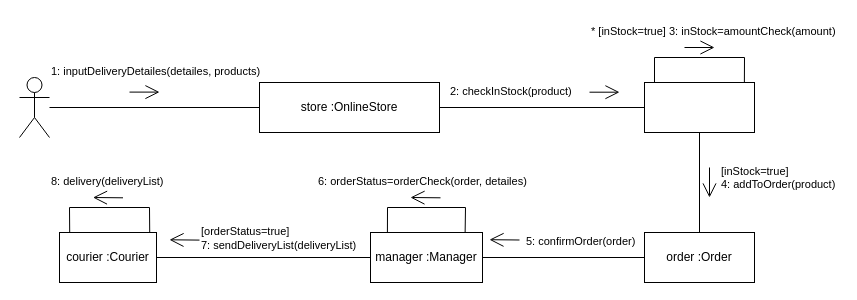
Image size: 857x300. Some labels were removed from this diagram. Here are the shapes that lost their labels. From the top down, the centre of each, then its label:
pixel 34 107: :Client
pixel 699 107: storage :Storage
